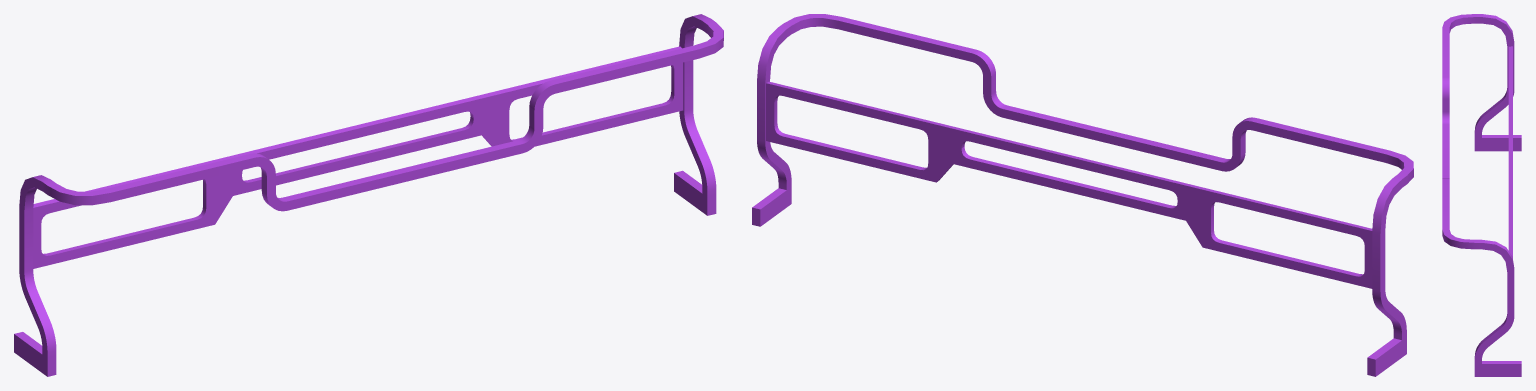
File: Rallings_B_4x1m.FBX
The picture shows the model from 3 angles, left to right: view 1: azimuth 30°, elevation 25°; view 2: azimuth 150°, elevation 25°; view 3: azimuth 270°, elevation 25°; orthographic projection. The views are drawn at different scales.
Parts seen in each view (by area): view 1: Rallings_B_4x1m; view 2: Rallings_B_4x1m; view 3: Rallings_B_4x1m.
Boxes of the visible parts, left/top/right/bottom form: Rallings_B_4x1m: left=14, top=14, right=723, bottom=376; Rallings_B_4x1m: left=752, top=14, right=1413, bottom=376; Rallings_B_4x1m: left=1442, top=14, right=1521, bottom=376.
Bounding box in the file's own units: 375 × 103 × 55.01.
